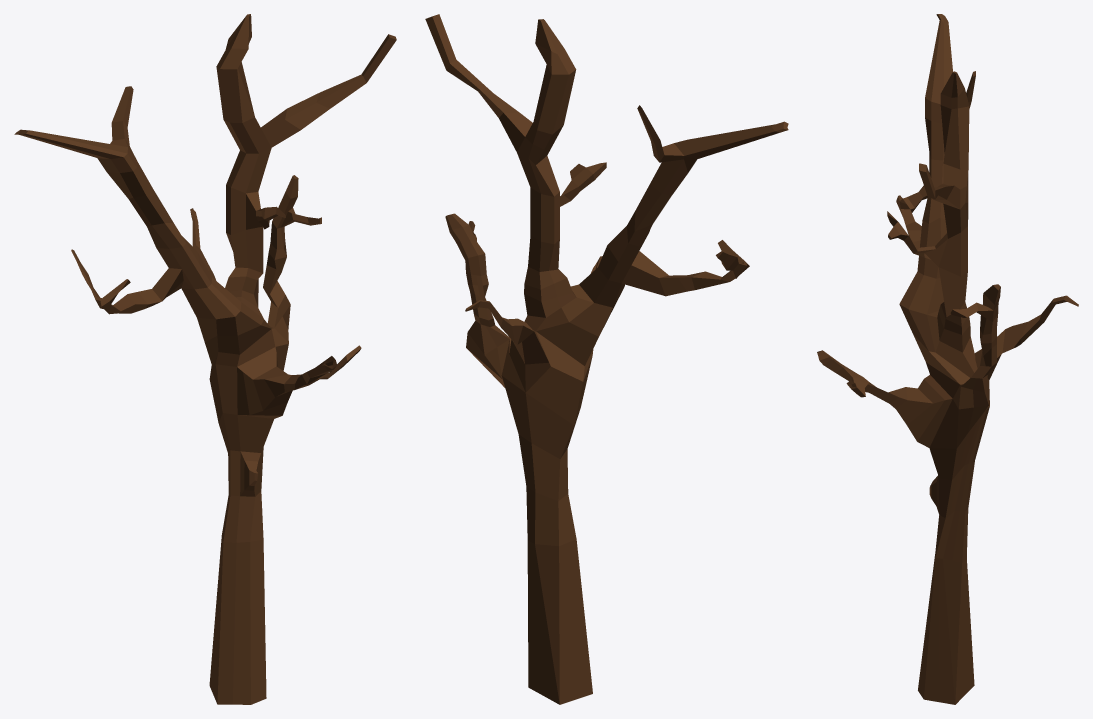
File: DeadTree01.fbx
3 views of the same model, side by side, from view 1: azimuth 30°, elevation 25°; view 2: azimuth 150°, elevation 25°; view 3: azimuth 270°, elevation 25° (orthographic). The views are drawn at different scales.
Parts seen in each view (by area): view 1: Dead_Tree; view 2: Dead_Tree; view 3: Dead_Tree.
Part boxes in pixels (x1,y1,x2,y2): Dead_Tree: [14, 14, 396, 704]; Dead_Tree: [425, 14, 788, 704]; Dead_Tree: [817, 14, 1078, 704].
Size of the model in its own units: 307 by 529 by 200.
